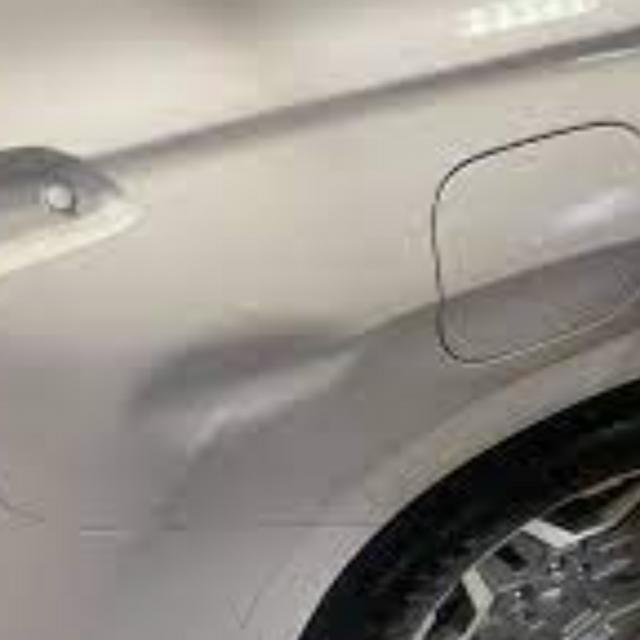dents: (107, 304, 357, 466)
